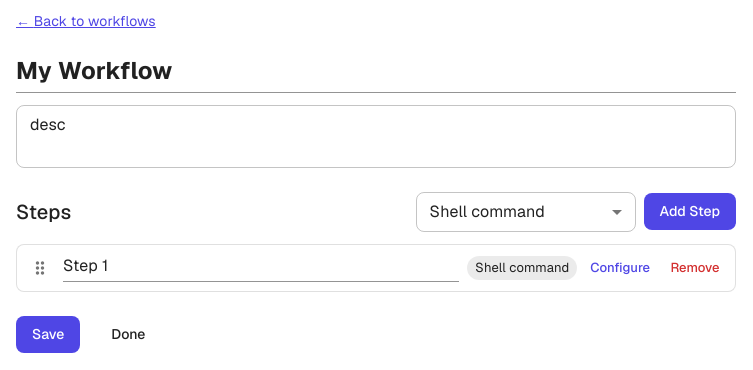
Test: WorkflowEditor page › removes a step from the list
Check: the field showing "Step 1" next to "Shell command" is shown, box [63,253,459,282]
Click the button "Remove": (695, 268) [663,252,727,283]
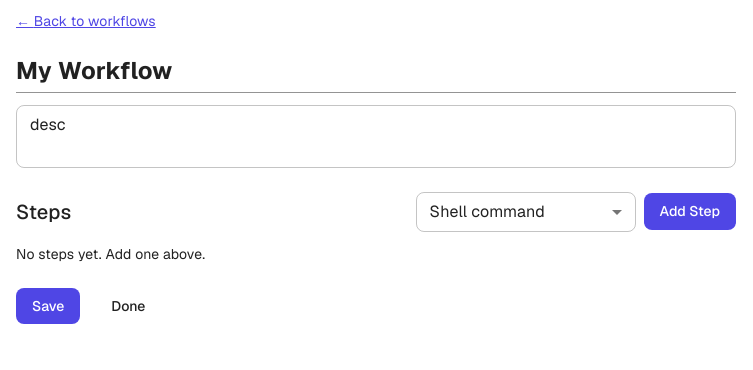
Check: the field showing "Step 1" is not shown
Check: the text "No steps yet. Add one above." is shown, box [16,244,205,262]
